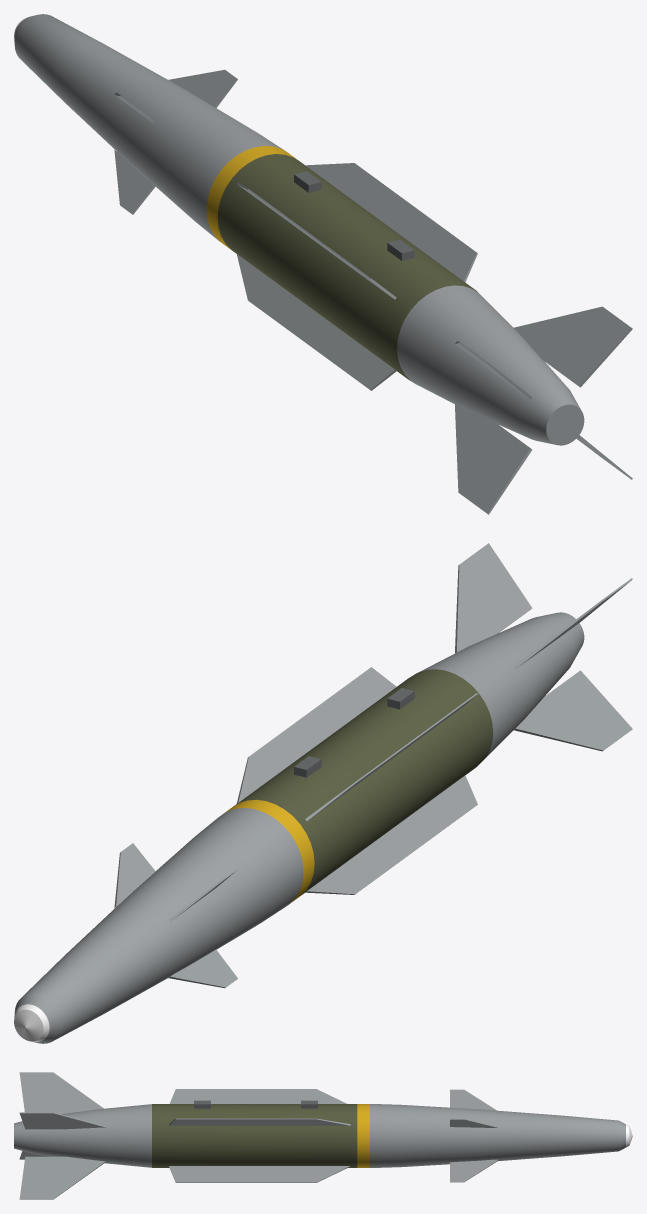
The model's file is spice2000.glb.
The picture shows the model from 3 angles, top to bottom: view 1: azimuth 30°, elevation 25°; view 2: azimuth 150°, elevation 25°; view 3: azimuth 270°, elevation 25°; orthographic projection. The views are drawn at different scales.
Parts seen in each view (by area): view 1: spice2000_body; view 2: spice2000_body; view 3: spice2000_body.
Boxes of the visible parts, left/top/right/bottom form: spice2000_body: left=14, top=14, right=632, bottom=514; spice2000_body: left=14, top=543, right=632, bottom=1043; spice2000_body: left=14, top=1072, right=632, bottom=1199.
Bounding box in the file's own units: 0.6838 × 0.6838 × 4.4.
Materials: 5 (5 with a texture image).
